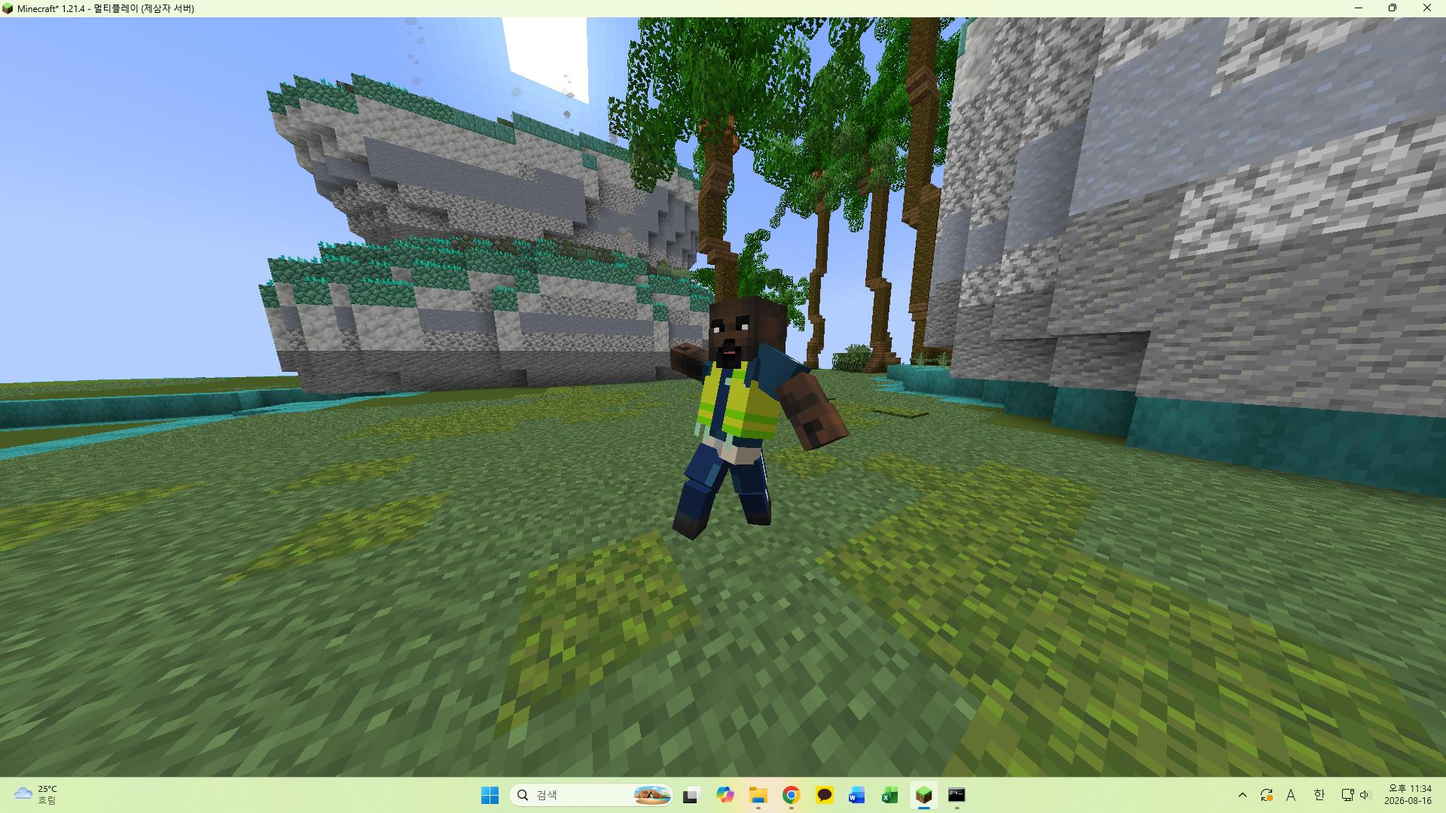Guardian: (671, 297, 848, 538)
